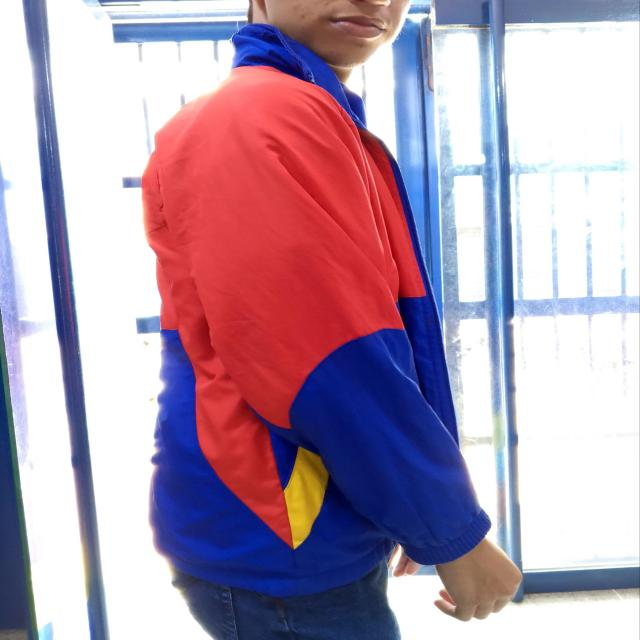chaqueta_unefa: (141, 24, 491, 596)
